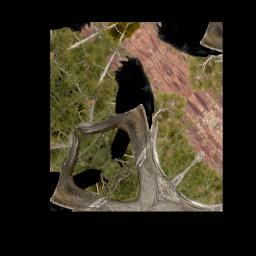Crow: (69, 48, 177, 166)
